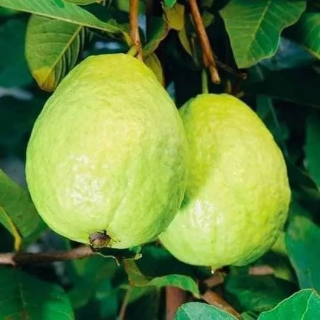oi: (29, 53, 186, 254)
